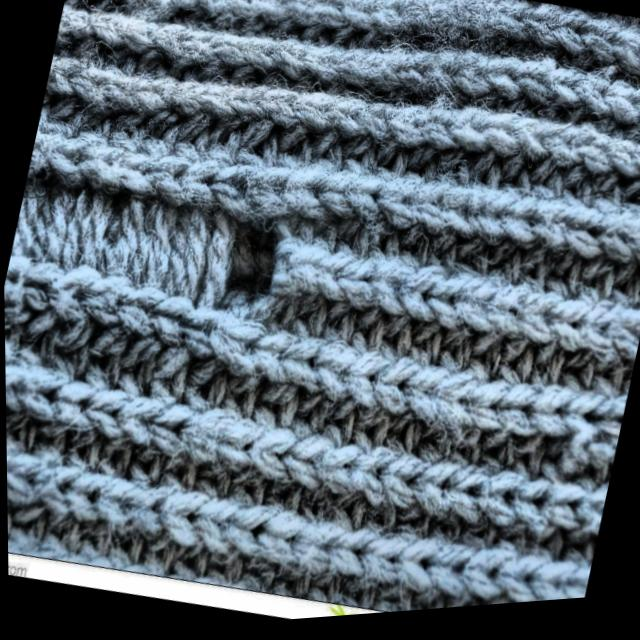Hole: (181, 176, 319, 343)
